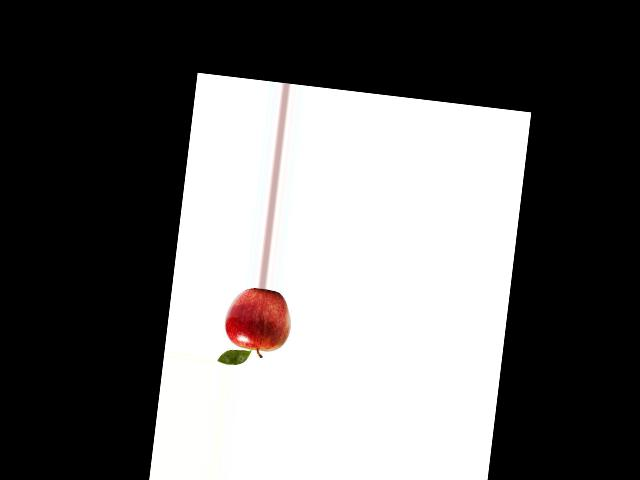apple: (217, 284, 296, 358)
